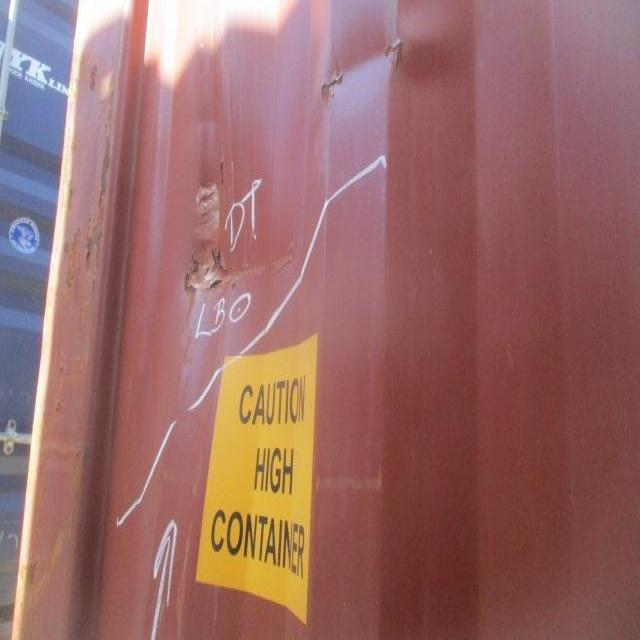Dent: (107, 17, 482, 448)
